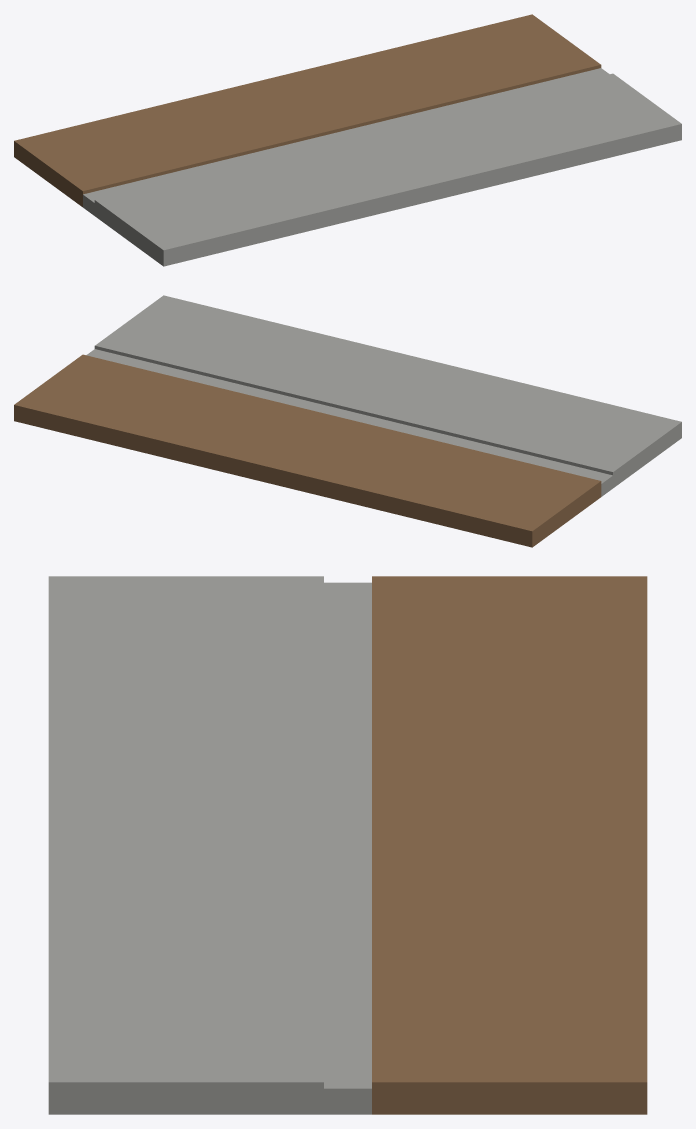
Rendered from FloorBoundary_Split.fbx.
The picture shows the model from 3 angles, top to bottom: view 1: azimuth 30°, elevation 25°; view 2: azimuth 150°, elevation 25°; view 3: azimuth 270°, elevation 25°; orthographic projection. The views are drawn at different scales.
Parts seen in each view (by area): view 1: FloorBoundary_Split; view 2: FloorBoundary_Split; view 3: FloorBoundary_Split.
Part boxes in pixels (x1,y1,x2,y2): FloorBoundary_Split: (14, 14, 681, 266); FloorBoundary_Split: (14, 295, 681, 547); FloorBoundary_Split: (48, 576, 647, 1114).
Size of the model in its own units: 500 by 15 by 250.
